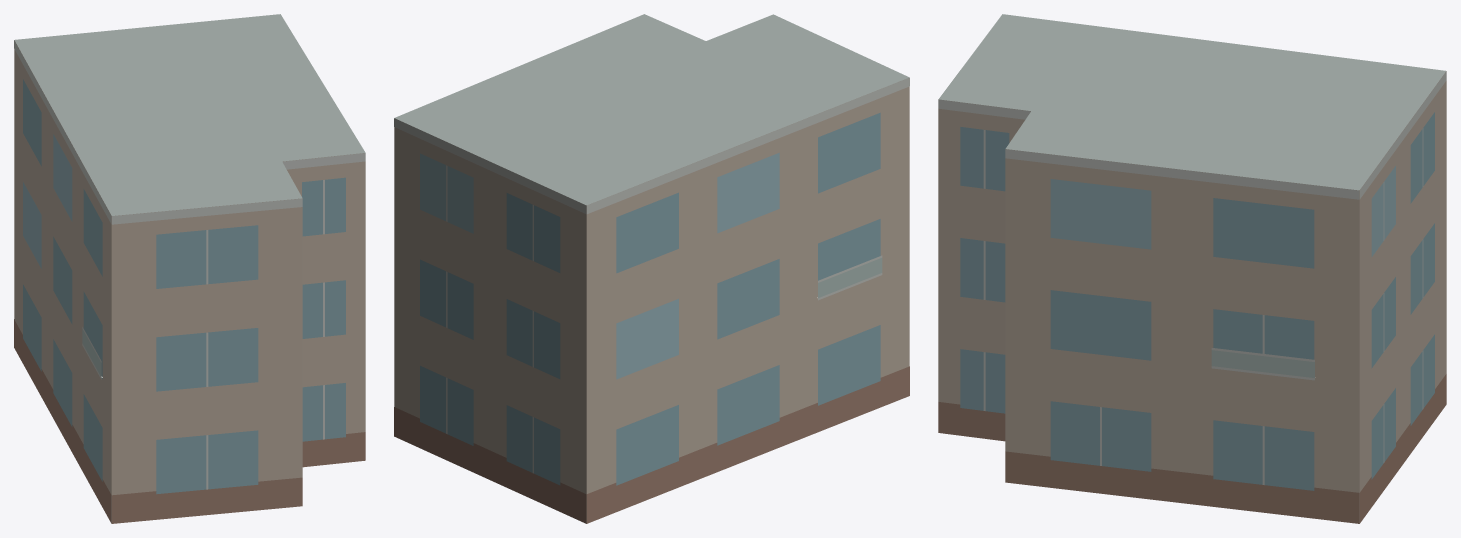
The model's file is survey-upis-32507525.glb.
3 views of the same model, side by side, from view 1: azimuth 30°, elevation 25°; view 2: azimuth 150°, elevation 25°; view 3: azimuth 270°, elevation 25° (orthographic). The views are drawn at different scales.
Parts seen in each view (by area): view 1: survey-upis-32507525.tmp; view 2: survey-upis-32507525.tmp; view 3: survey-upis-32507525.tmp.
Boxes of the visible parts, box(x1,y1,x2,y2) form: survey-upis-32507525.tmp: box(14, 14, 365, 523); survey-upis-32507525.tmp: box(394, 14, 909, 523); survey-upis-32507525.tmp: box(938, 14, 1446, 523).
Size of the model in its own units: 9.88 by 8.7 by 12.03.
